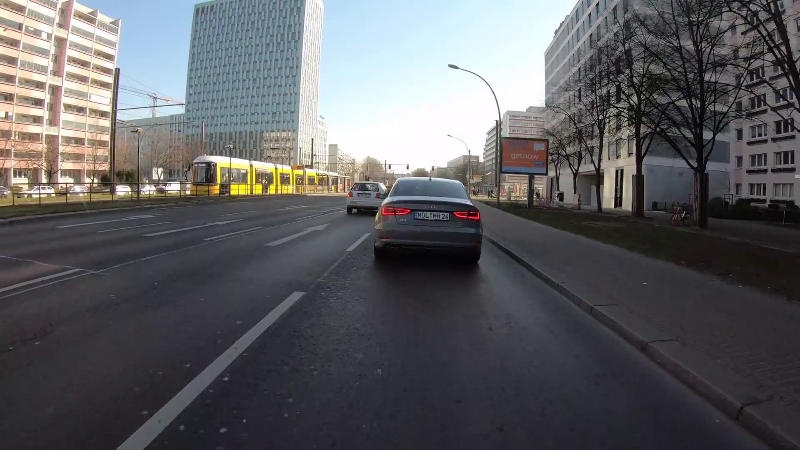Plate: (411, 210, 454, 222), (355, 192, 371, 199)
